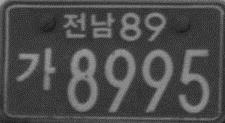5: (178, 47, 210, 114)
8: (65, 48, 98, 114), (119, 11, 142, 43)
9: (141, 48, 173, 116), (105, 47, 137, 114), (143, 12, 168, 42)
가: (17, 45, 56, 93)
너: (62, 10, 116, 41)
